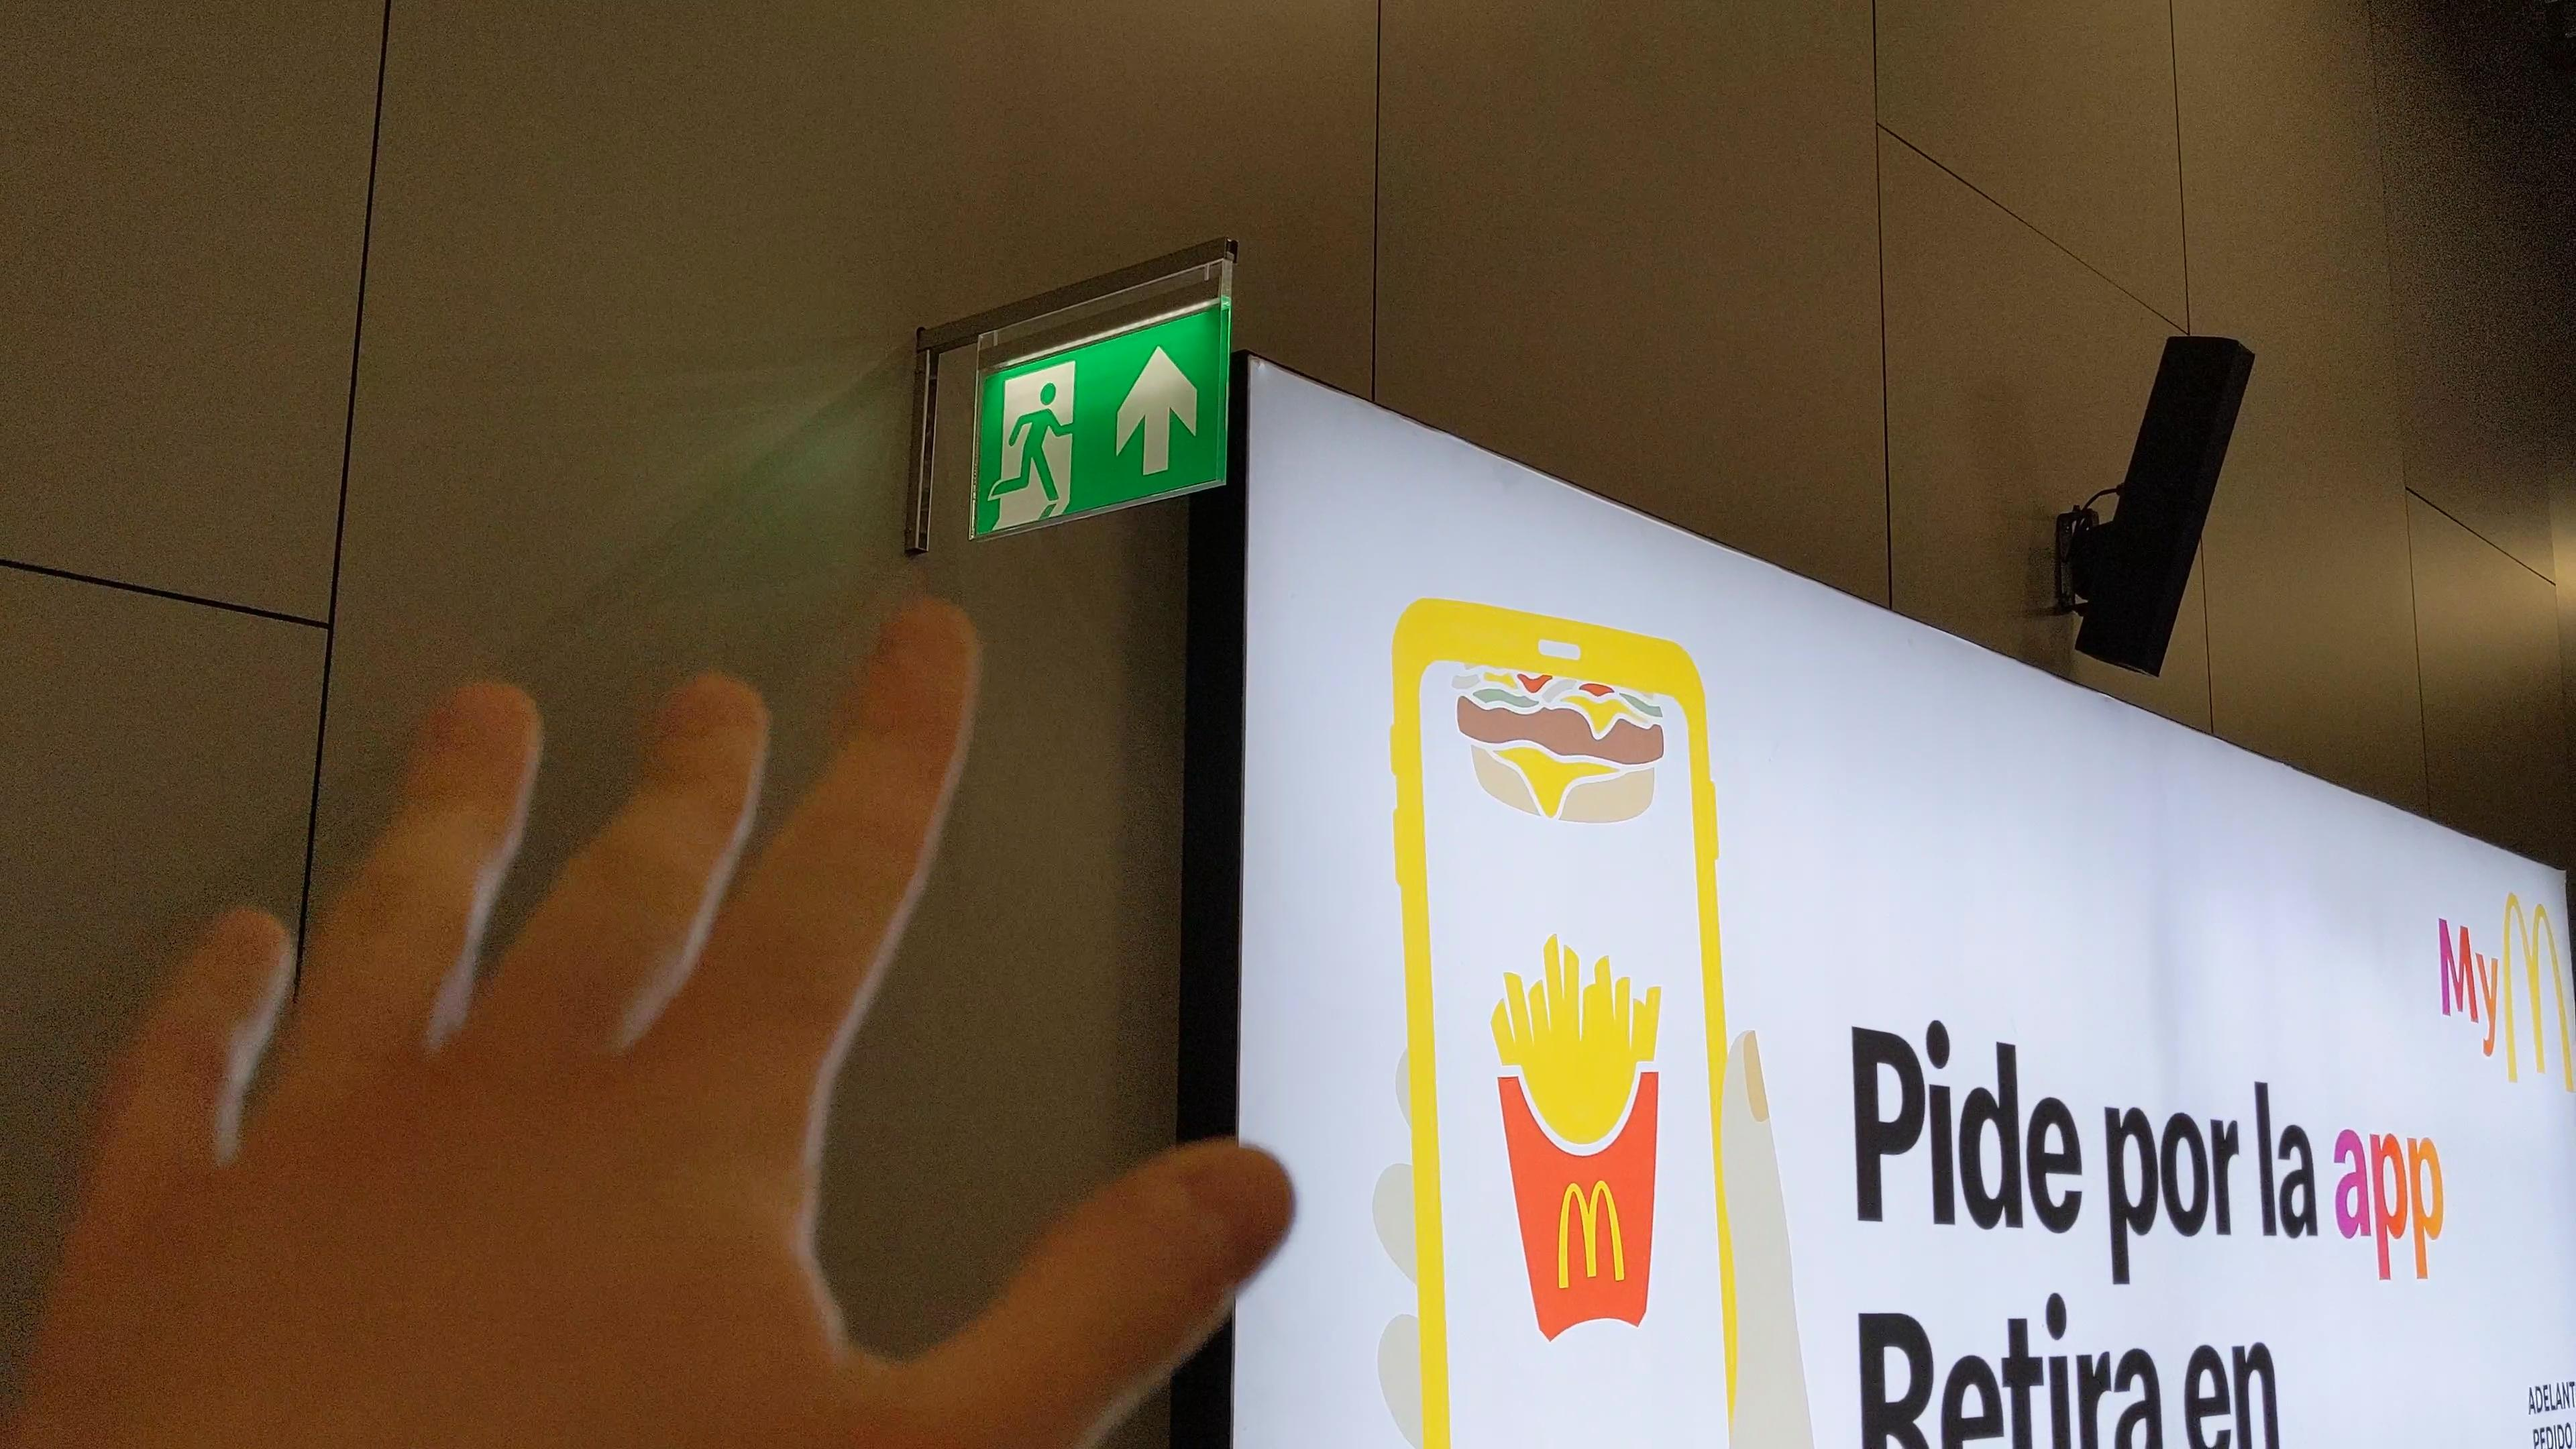emergency exit: (985, 357, 1081, 536)
emergency up arrow: (1109, 341, 1205, 478)
